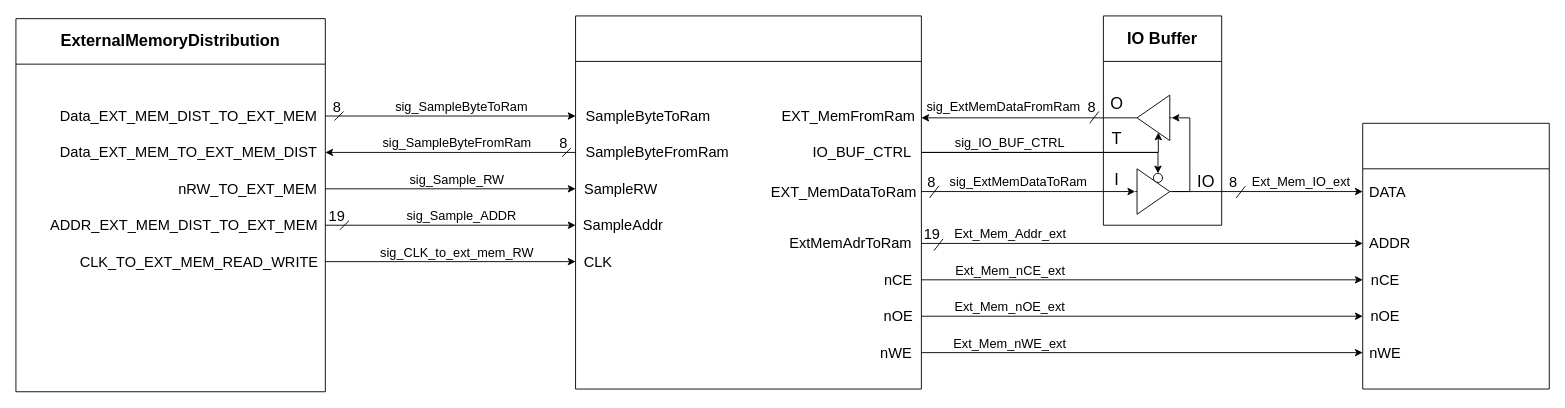
Image size: 1565x408. Some labels were removed from this diagram. The box of each missing label's shape, as (x1, y1, x2, y2) in pixels:
Ext. Sample Memory (SRAM IC): (1362, 122, 1549, 389)
ExtMemReadWrite: (575, 15, 921, 389)
